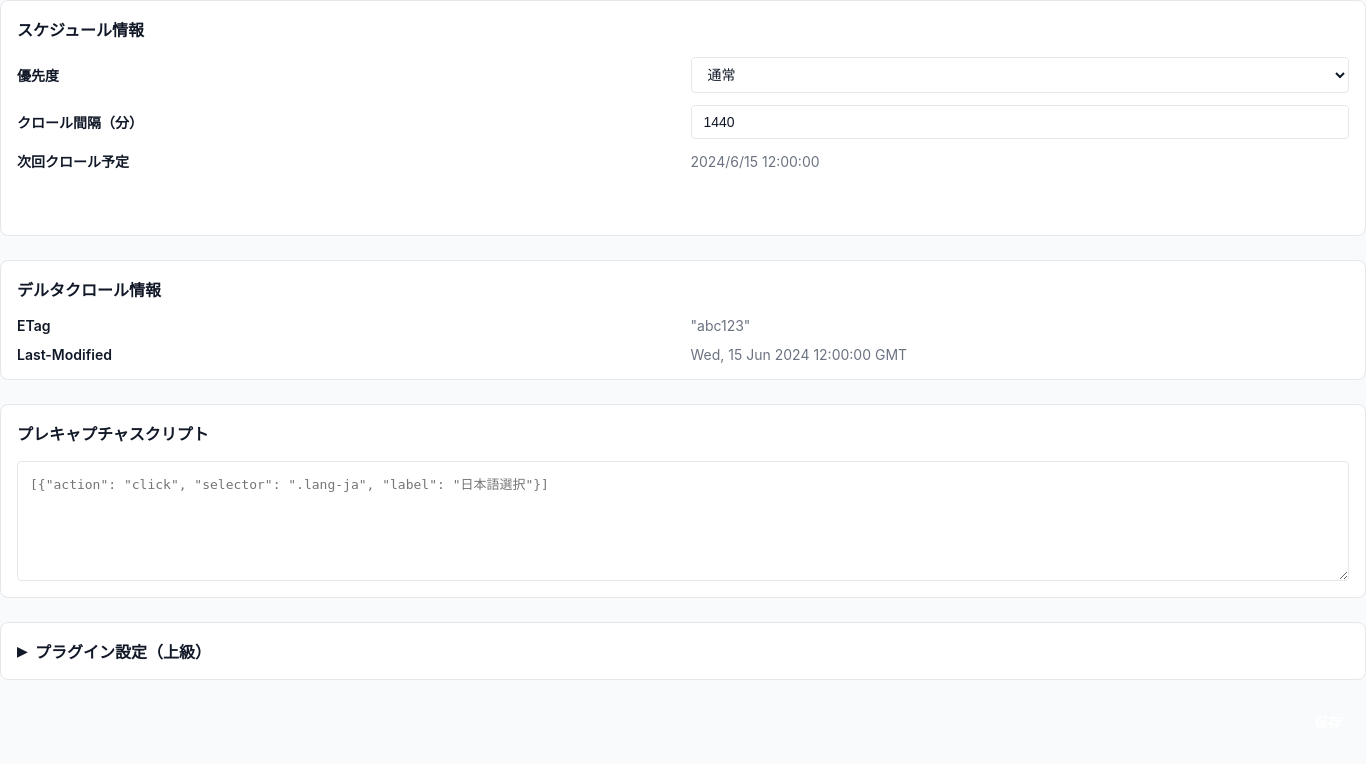
Test: ScheduleTab › shows "follows global settings" when plugin_config is null
This screenshot has width=1366, height=764.
Click the button "▶ プラグイン設定（上級）" at point(114, 651), box [17,639,211,663]
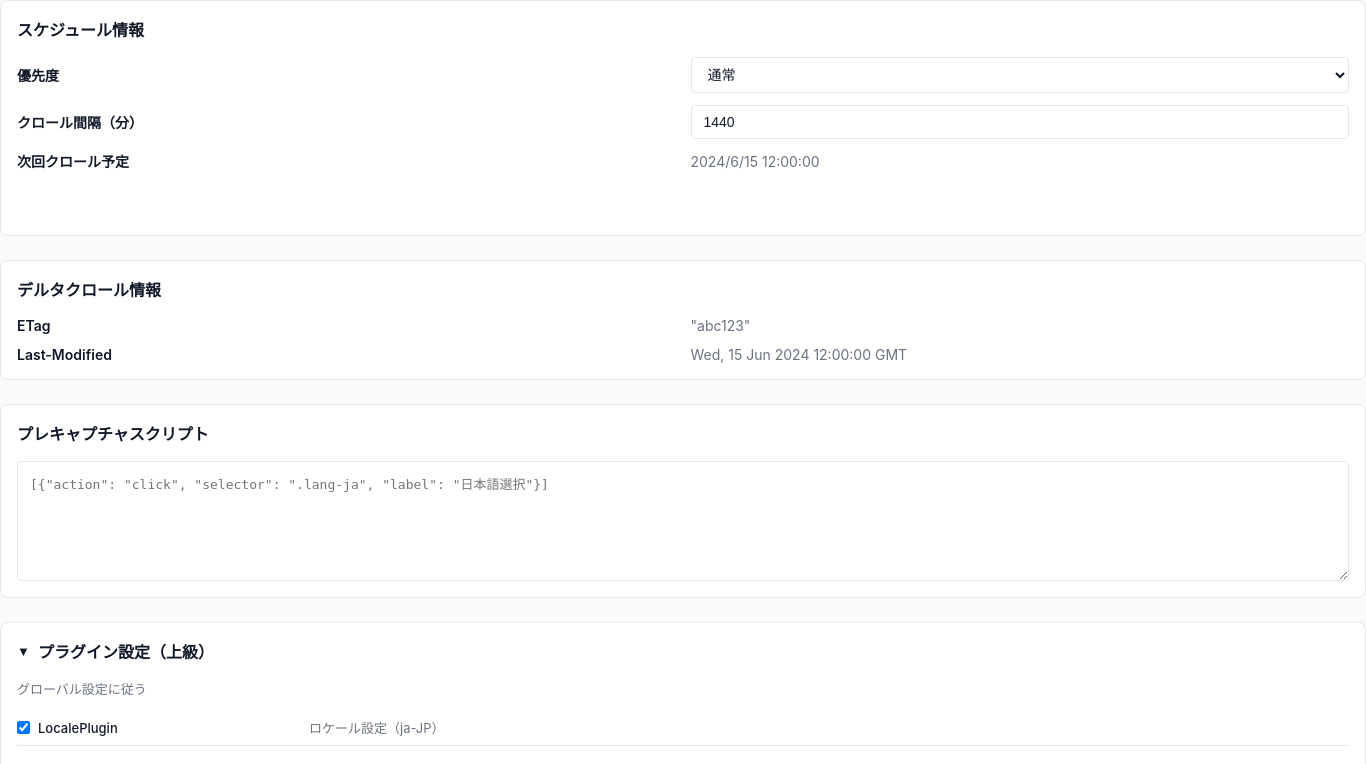
Check: the text "グローバル設定に従う" is shown, box [17,681,147,697]
